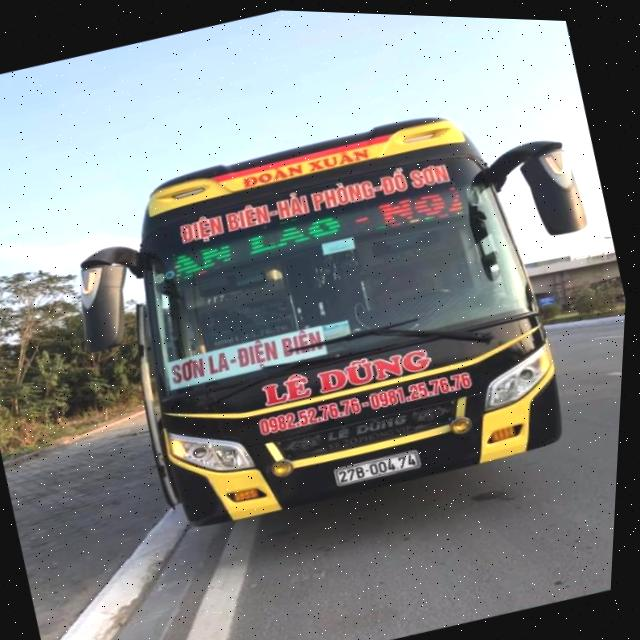car: (54, 5, 589, 567)
plate: (324, 435, 432, 498)
